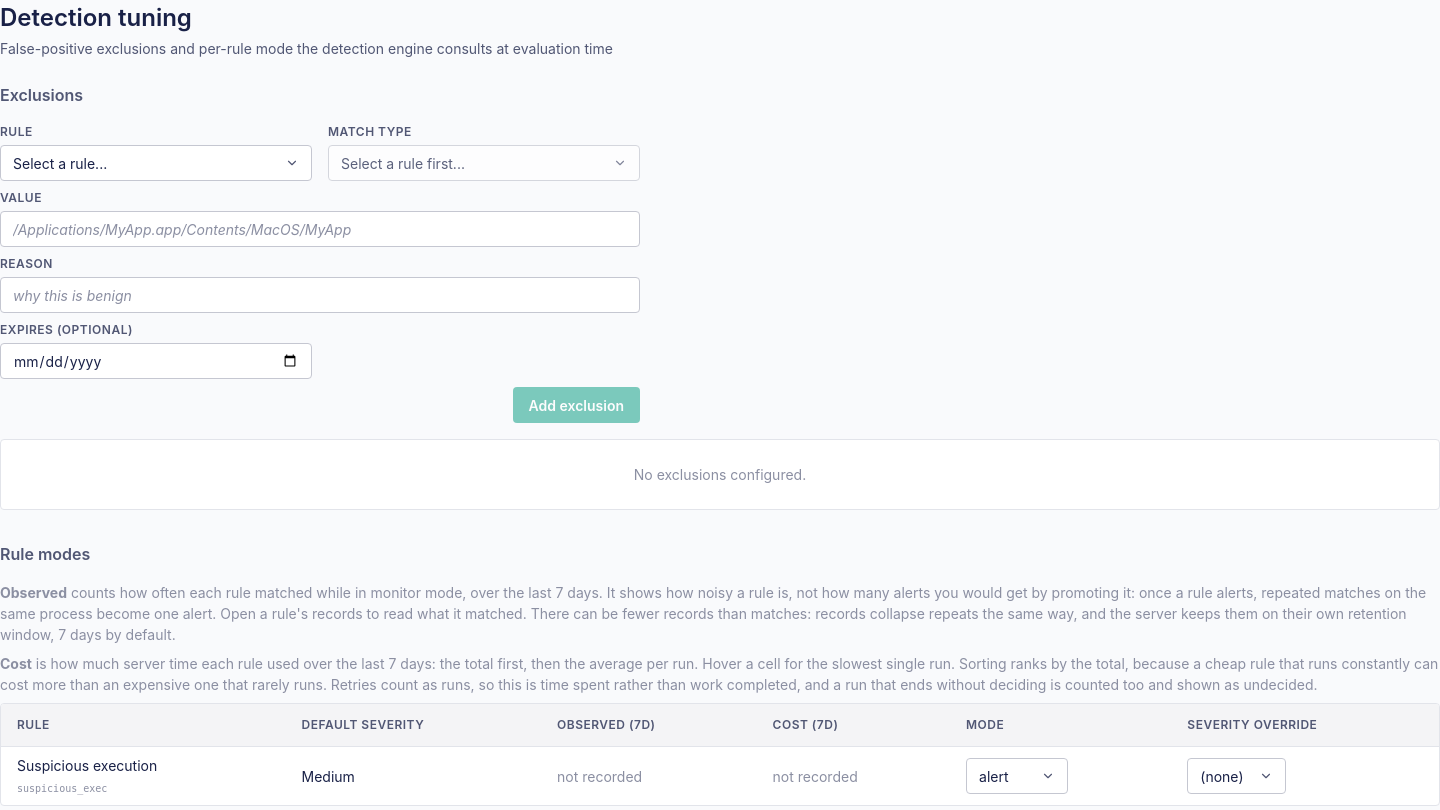
Test: DetectionConfig › cancelling the reason modal sends no mutation
Select "disabled" in the dropdown named "mode for suspicious_exec" at (1017, 776), box [966,758,1068,794]
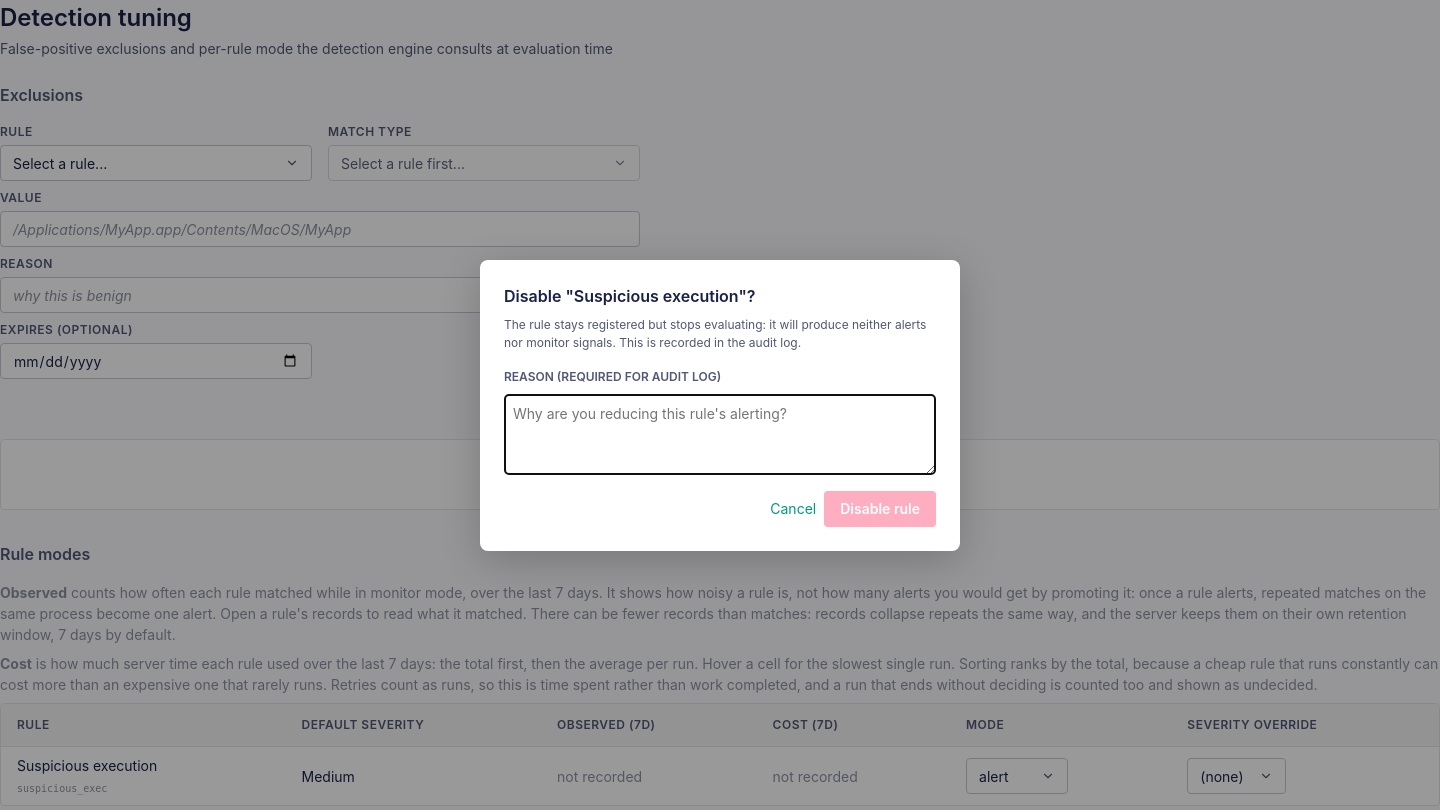
Check: the heading "Disable \"Suspicious execution\"?" is shown, box [504,286,756,306]
Click the button "Cancel" at (793, 508), box [770,490,816,526]
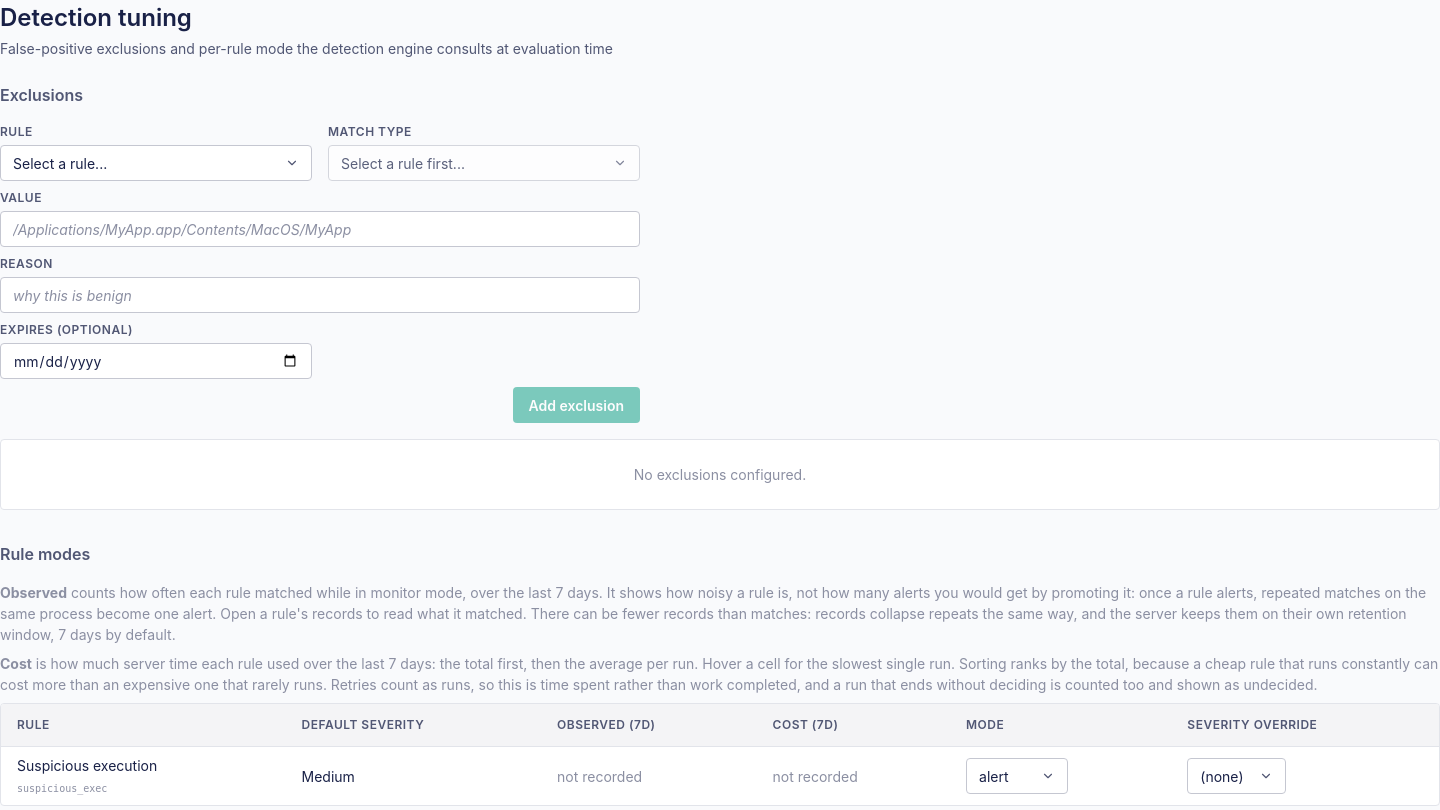
Check: the heading "Disable \"Suspicious execution\"" is gone
